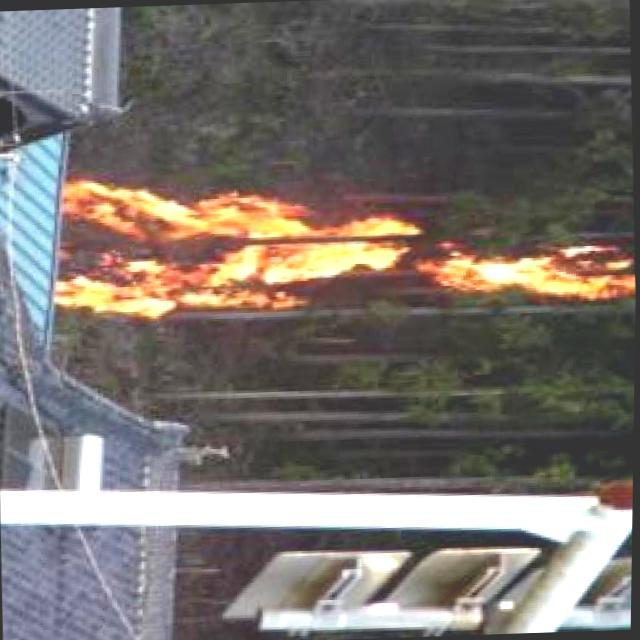helmet: (50, 166, 625, 348)
